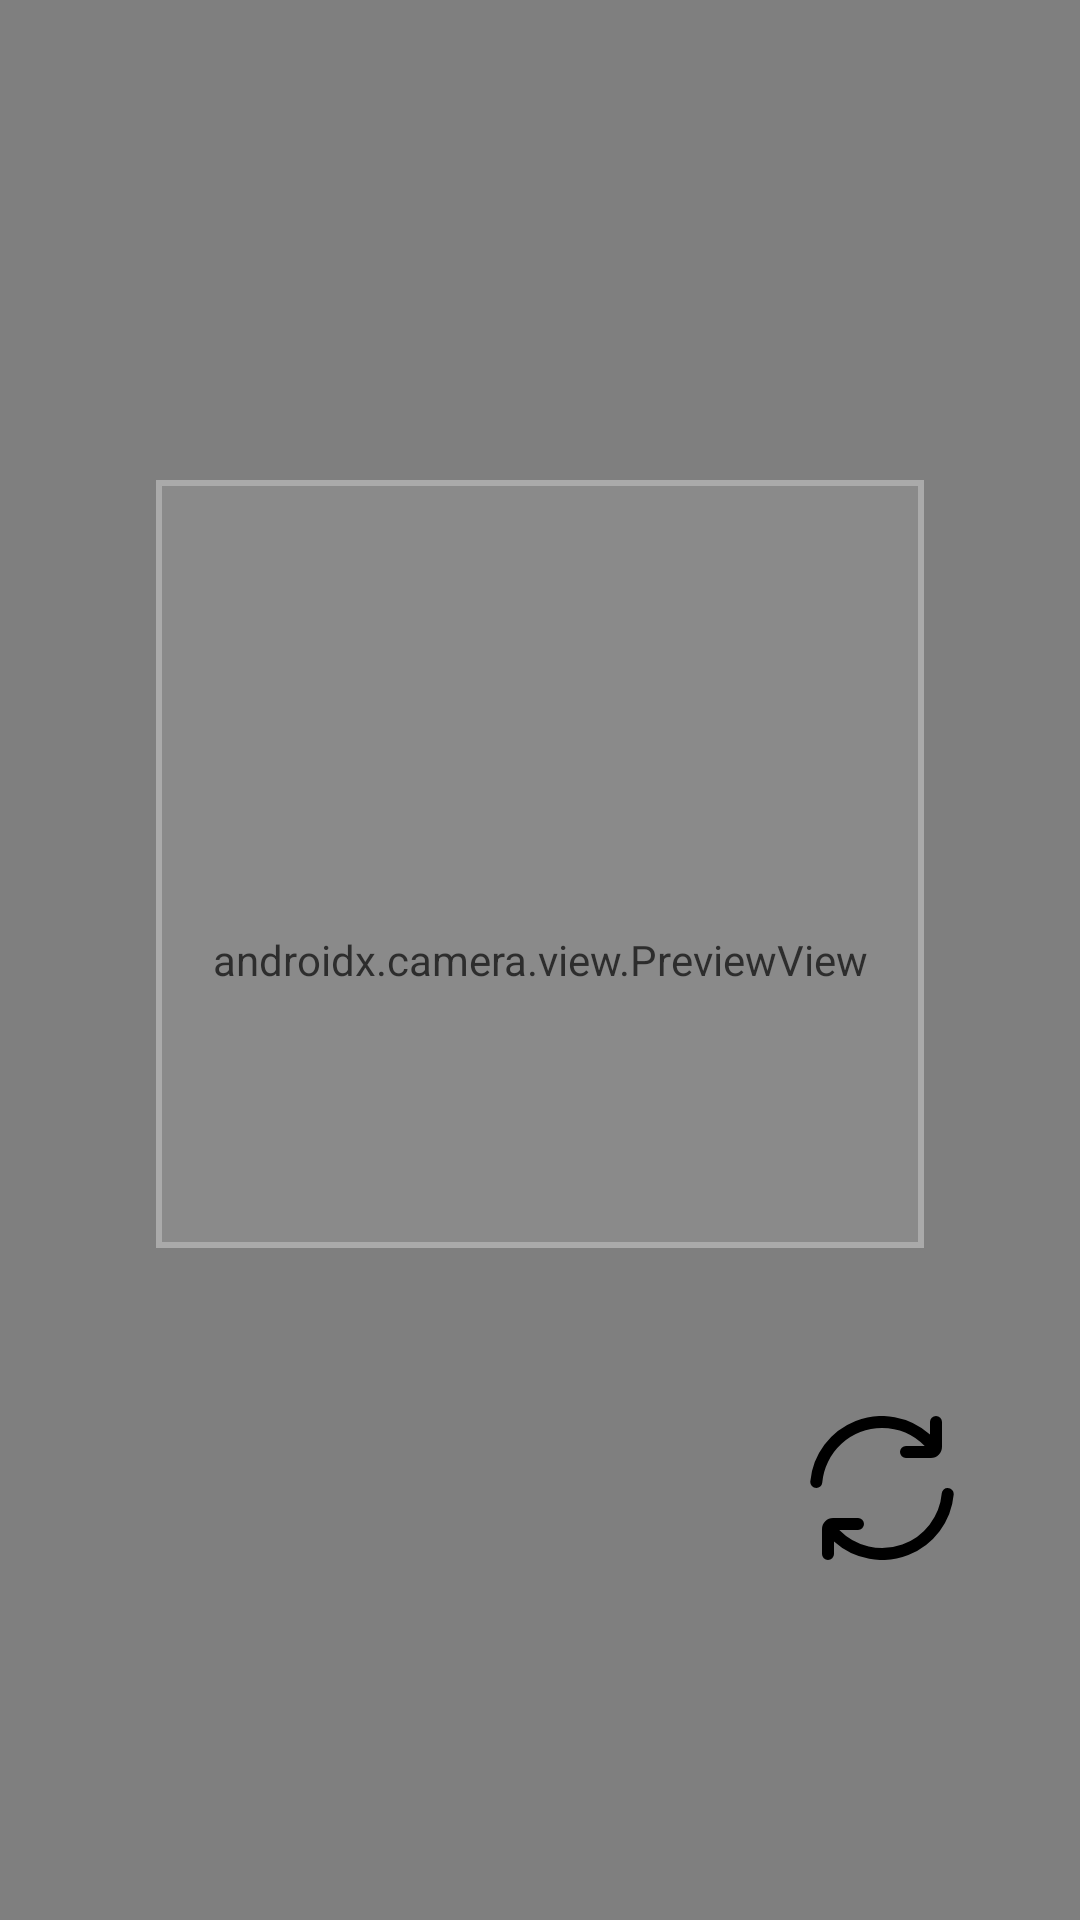

Screen size 1080×1920. Icon name, then its center in pixels as (x,y):
Switch camera view: (882,1488)
